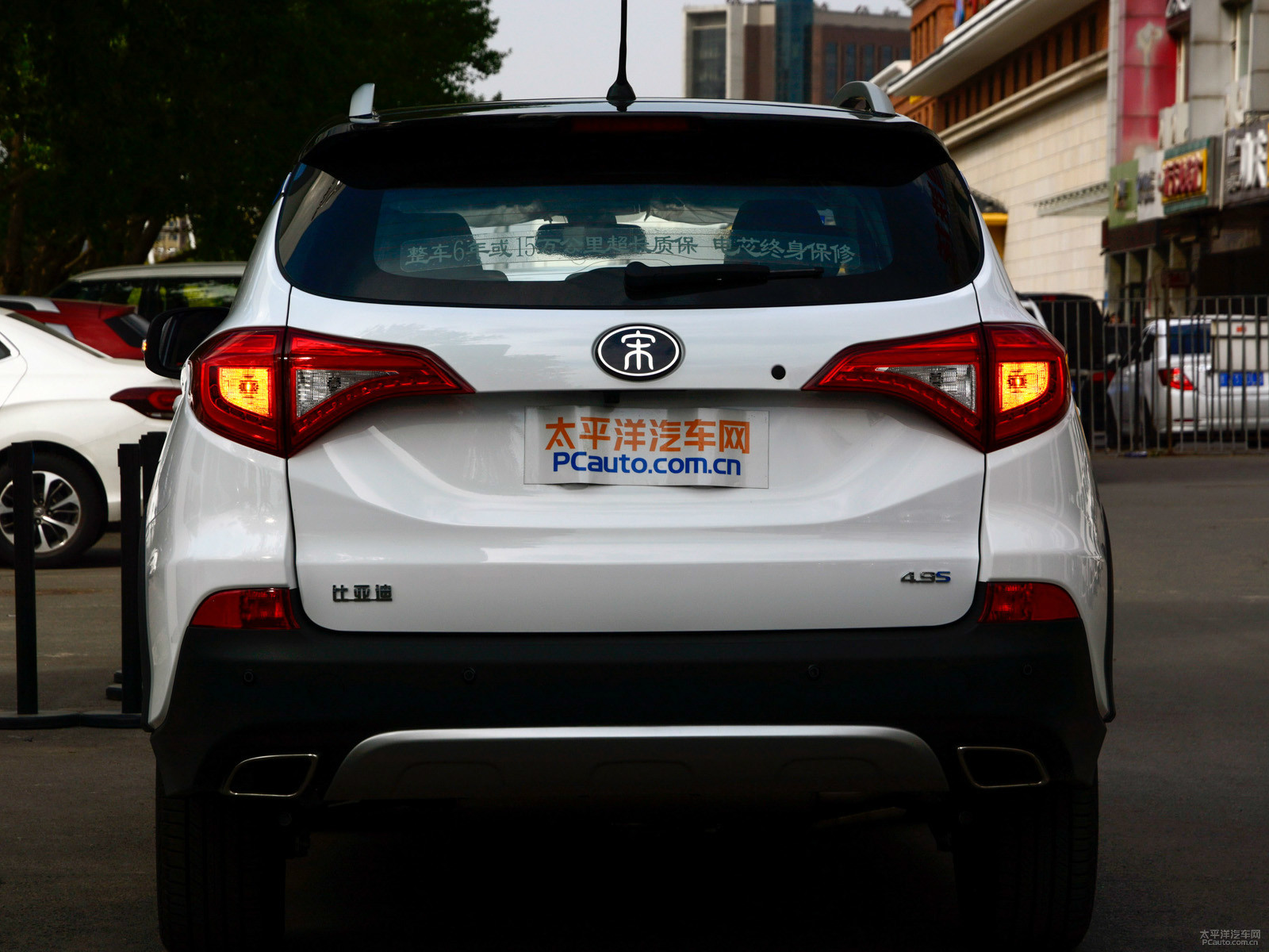BYD Song: (596, 324, 681, 381)
